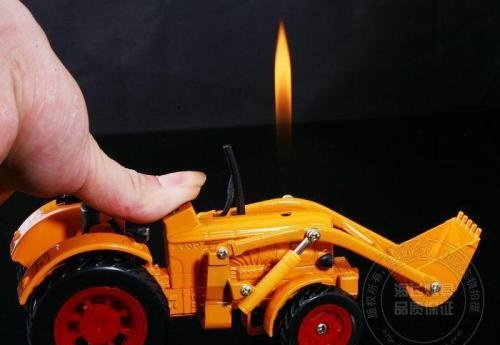fire: (272, 17, 294, 134)
